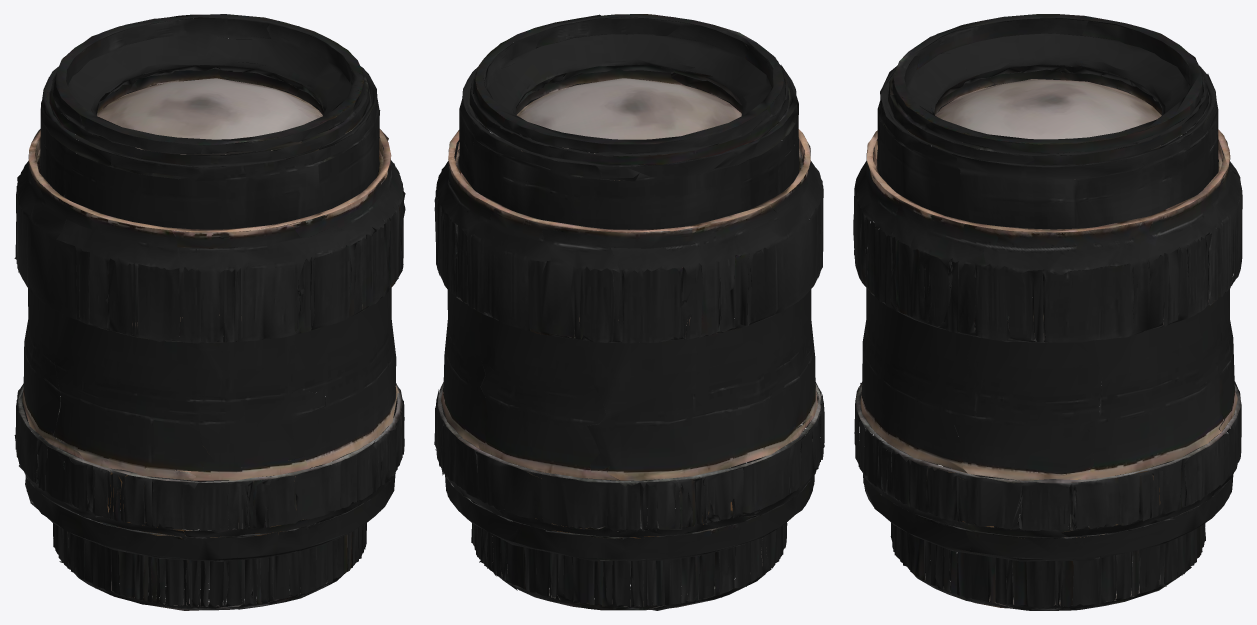
File: tool-about.glb
The picture shows the model from 3 angles, left to right: view 1: azimuth 30°, elevation 25°; view 2: azimuth 150°, elevation 25°; view 3: azimuth 270°, elevation 25°; orthographic projection.
Visible parts, largest first — view 1: Mesh_0; view 2: Mesh_0; view 3: Mesh_0.
Boxes of the visible parts, bbox=[...] form: Mesh_0: bbox=[14, 14, 405, 610]; Mesh_0: bbox=[434, 14, 824, 610]; Mesh_0: bbox=[853, 14, 1242, 610].
Size of the model in its own units: 0.7459 by 1 by 0.7476.
1 material, 1 textured.
